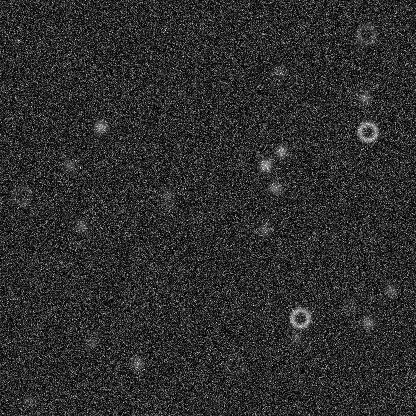Ring: (355, 119, 379, 143), (288, 305, 312, 329), (354, 22, 378, 46), (9, 183, 33, 207), (222, 354, 246, 378)
Spot: (129, 355, 145, 371), (360, 314, 376, 330), (60, 157, 76, 173), (256, 221, 272, 237), (382, 282, 398, 298), (356, 89, 372, 105), (270, 63, 286, 79), (21, 392, 37, 408), (73, 217, 89, 233), (92, 118, 108, 134), (341, 297, 357, 313), (257, 156, 273, 172), (273, 143, 289, 159), (160, 198, 176, 214), (158, 186, 174, 202), (267, 180, 283, 196), (235, 154, 251, 170), (288, 329, 304, 345), (82, 334, 98, 350)
